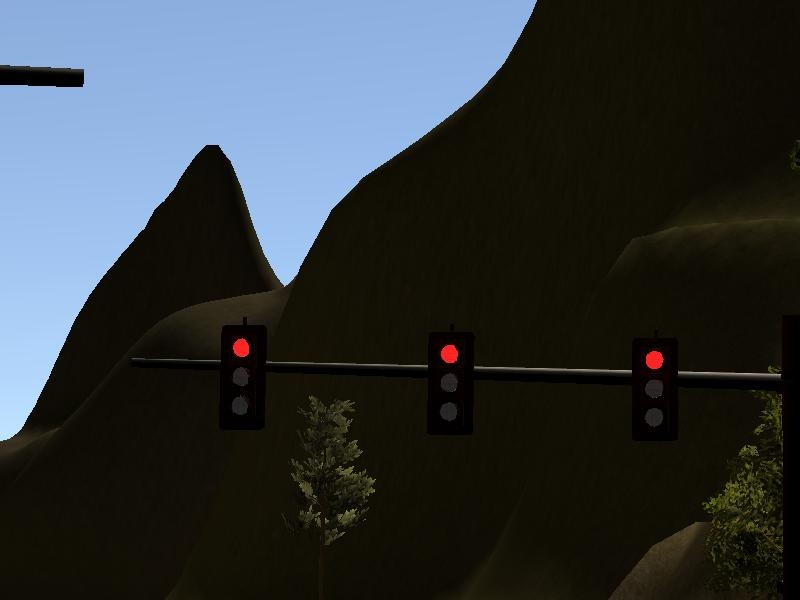red: (429, 334, 475, 436), (222, 325, 266, 431), (634, 340, 679, 441)
